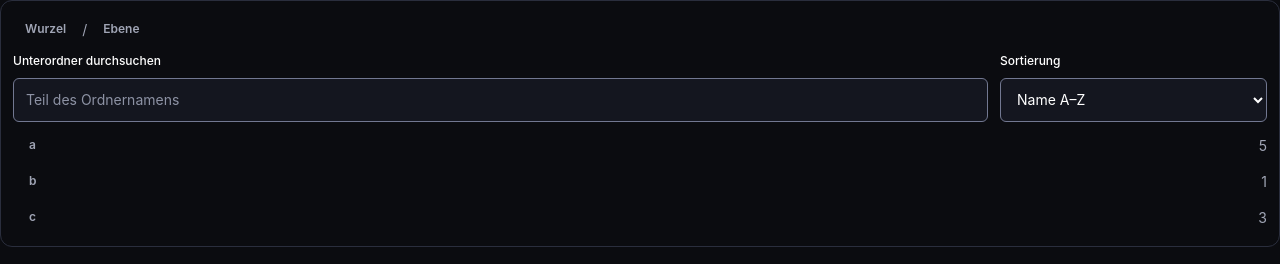
FolderBrowser › Sortieren und Suchen (specs/features/0532-ordnerauswahl-sortieren-suchen.md) › nennt den getrimmten Begriff, wenn die Ebene Unterordner hat, aber keiner passt
expect the button "a" is shown: met, box 13,130 -> 1247,162
In the field labelled "Unterordner durchsuchen": coordinates (500, 100) 13,78 -> 988,122, type "  xyz "
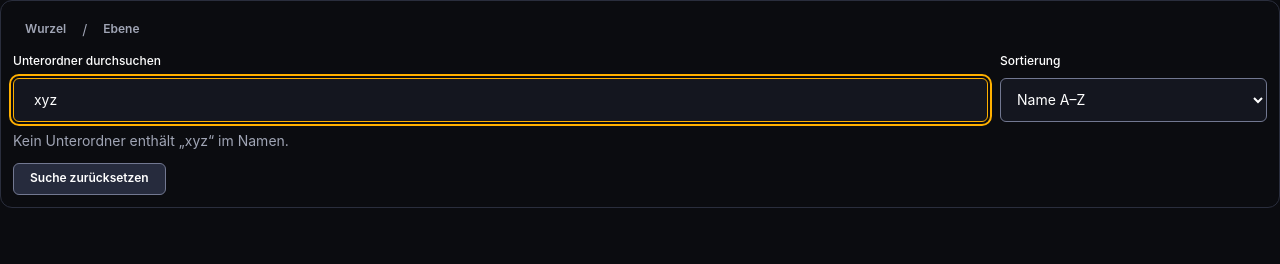
expect the text "Kein Unterordner enthält „xyz“ im Namen." is shown: met, box 13,132 -> 289,149
